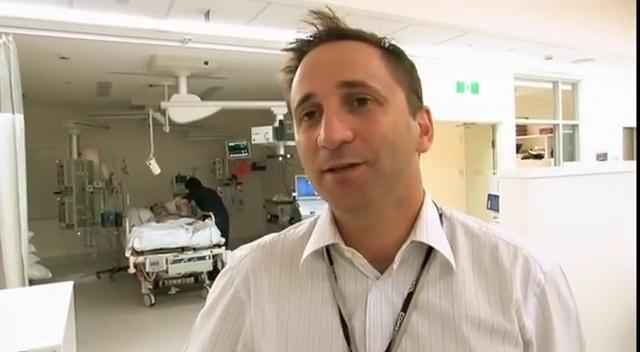others: (179, 6, 587, 351), (176, 177, 236, 240)
patient: (124, 200, 216, 259)
